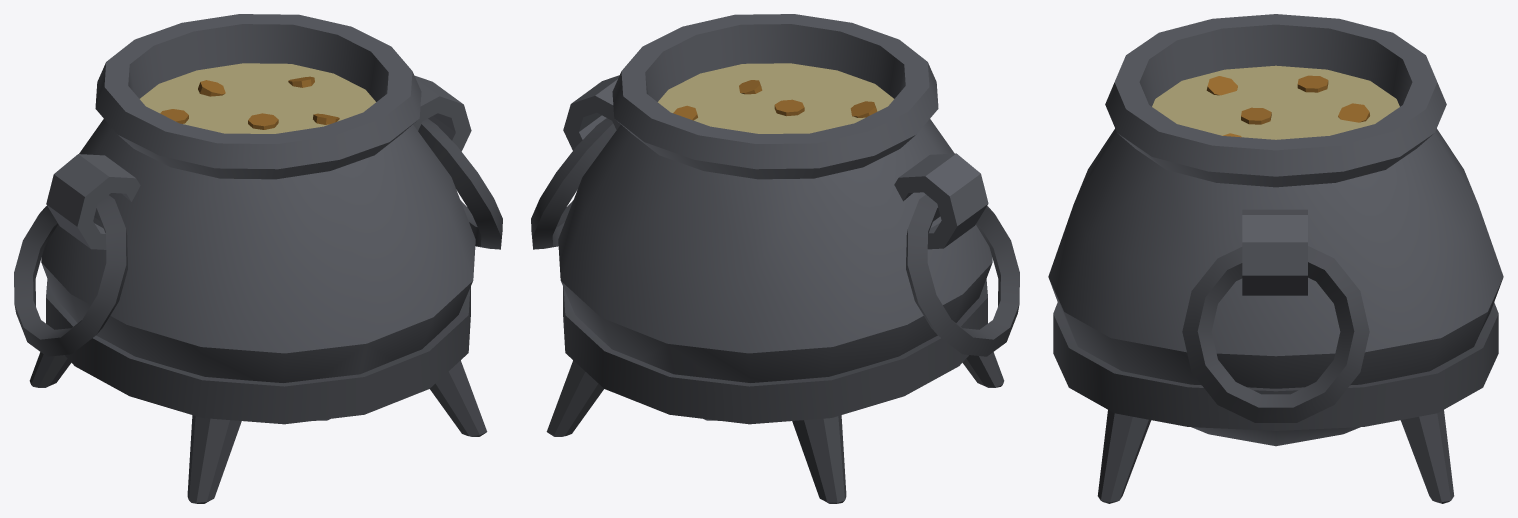
File: Cauldron.glb
3 views of the same model, side by side, from view 1: azimuth 30°, elevation 25°; view 2: azimuth 150°, elevation 25°; view 3: azimuth 270°, elevation 25° (orthographic). The views are drawn at different scales.
Visible parts, largest first — view 1: Cauldron; view 2: Cauldron; view 3: Cauldron.
Boxes of the visible parts, bbox=[...] form: Cauldron: bbox=[14, 14, 502, 503]; Cauldron: bbox=[531, 14, 1019, 503]; Cauldron: bbox=[1048, 14, 1503, 503].
Size of the model in its own units: 0.3607 by 0.2518 by 0.2988.
